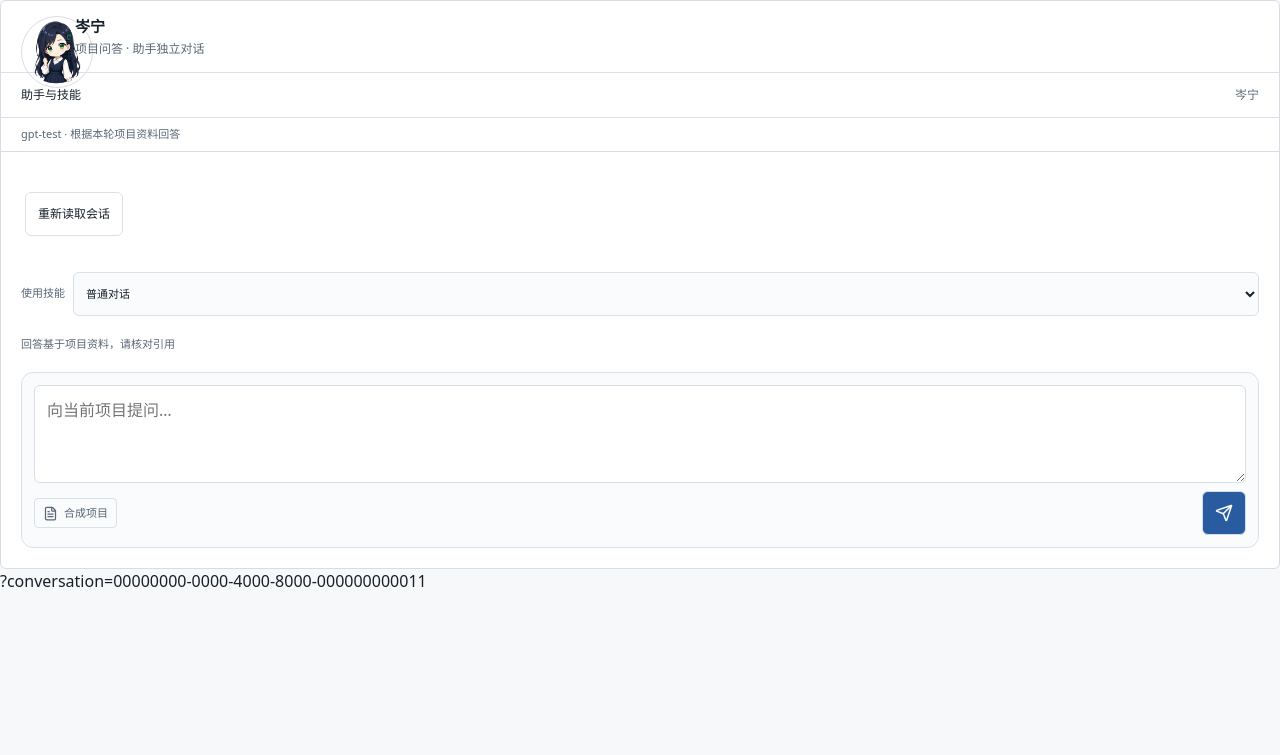
Scenario: reread redacts stale answers and citations while keeping the owner's question
Expected: the text "gpt-test" is shown, left=21, top=126, right=62, bottom=141
In the text box named "向项目知识提问": coordinates (640, 434) left=34, top=385, right=1246, bottom=483, type "核验旧引用的问题"
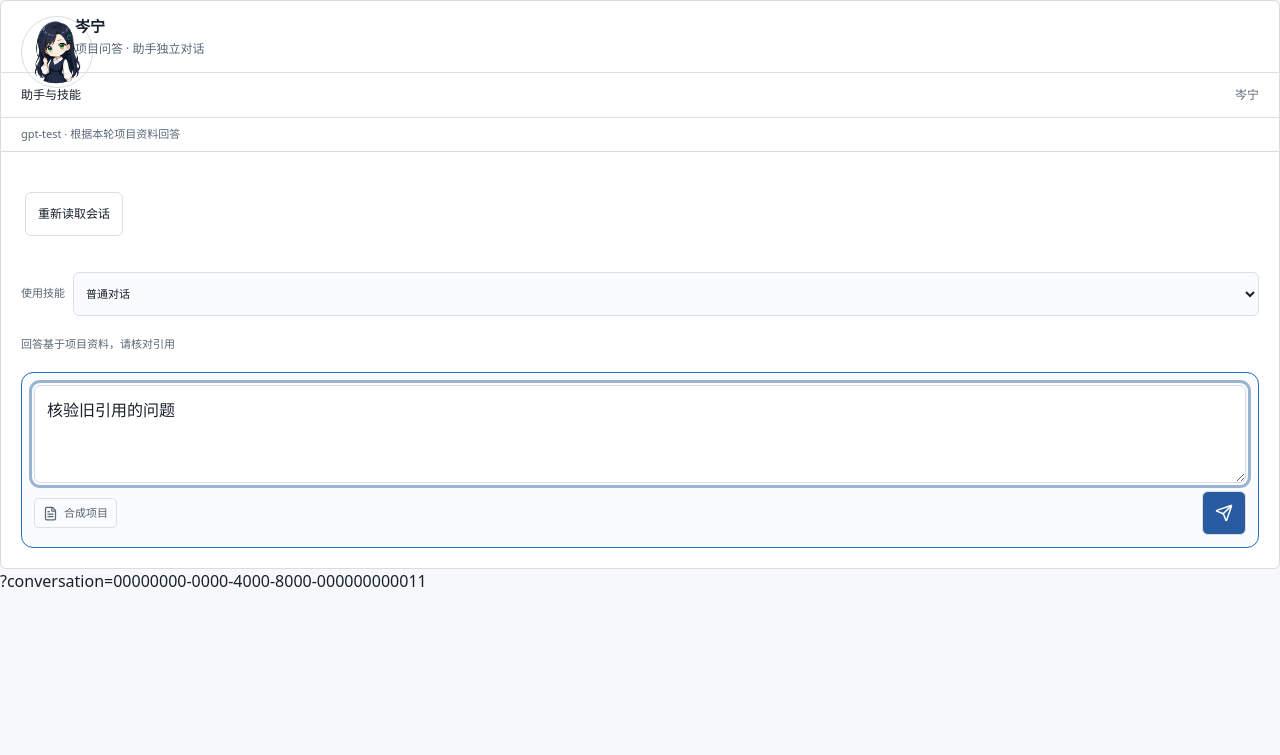
Click the button named "生成回答": coordinates (1224, 513) left=1202, top=491, right=1246, bottom=535
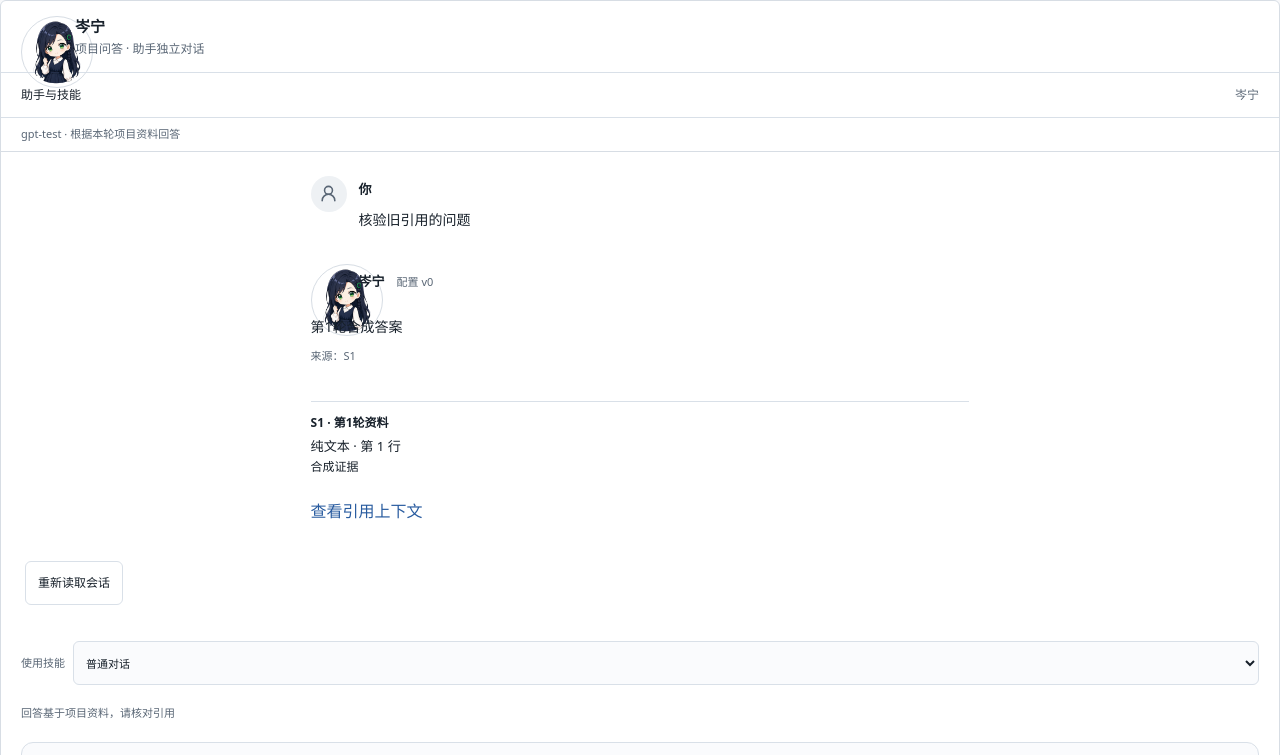
Expected: the text "第1轮合成答案" is shown, left=310, top=317, right=402, bottom=336
Click the button "重新读取会话": coordinates (74, 583) left=25, top=561, right=123, bottom=605
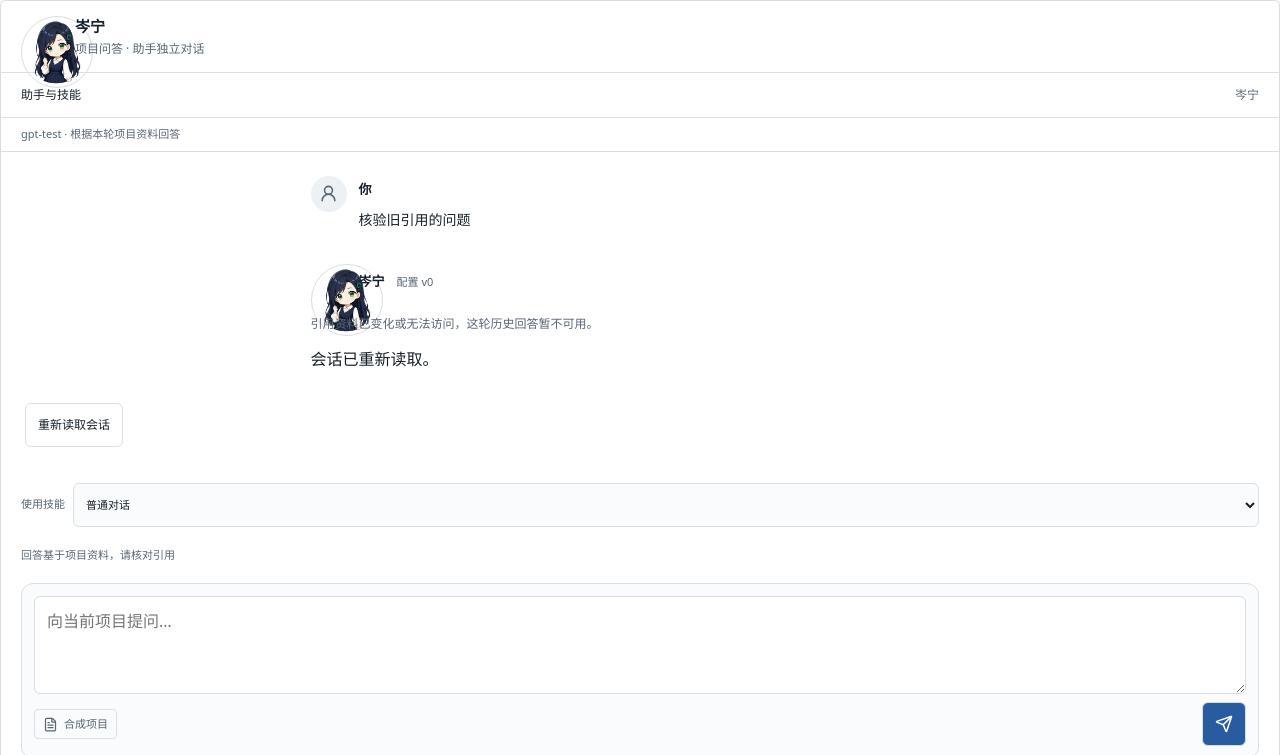
Expected: the text "引用资料已变化或无法访问，这轮历史回答暂不可用。" is shown, left=310, top=315, right=598, bottom=332
Expected: the text "第1轮合成答案" is gone
Expected: the text "S1 · 第1轮资料" is gone
